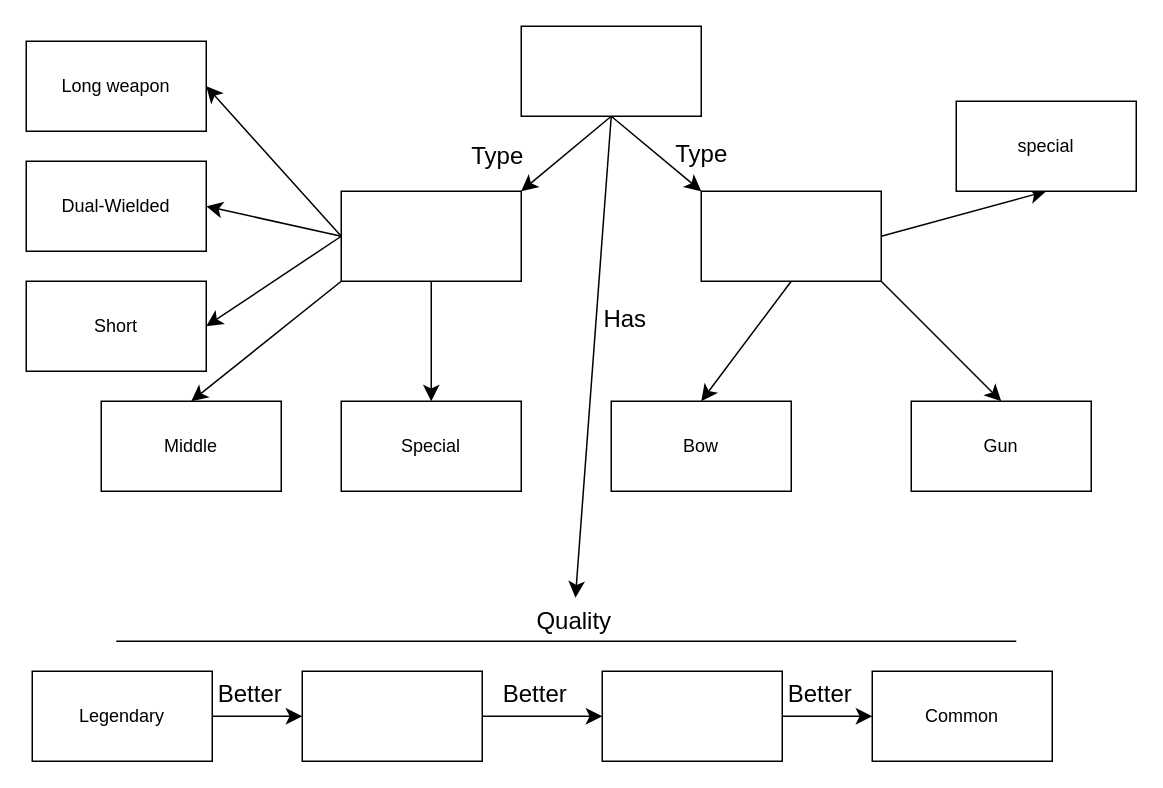
The diagram is 1163 pixels wide and 788 high, and some of its shapes have lost their labels. The shapes that lost their labels are listed below. From the top down, each one's centre as x and y in pixels, then its label:
the point at 610,70: Weapon
the point at 430,235: Melee
the point at 790,235: Ranged
the point at 391,715: Epic
the point at 691,715: Rare
